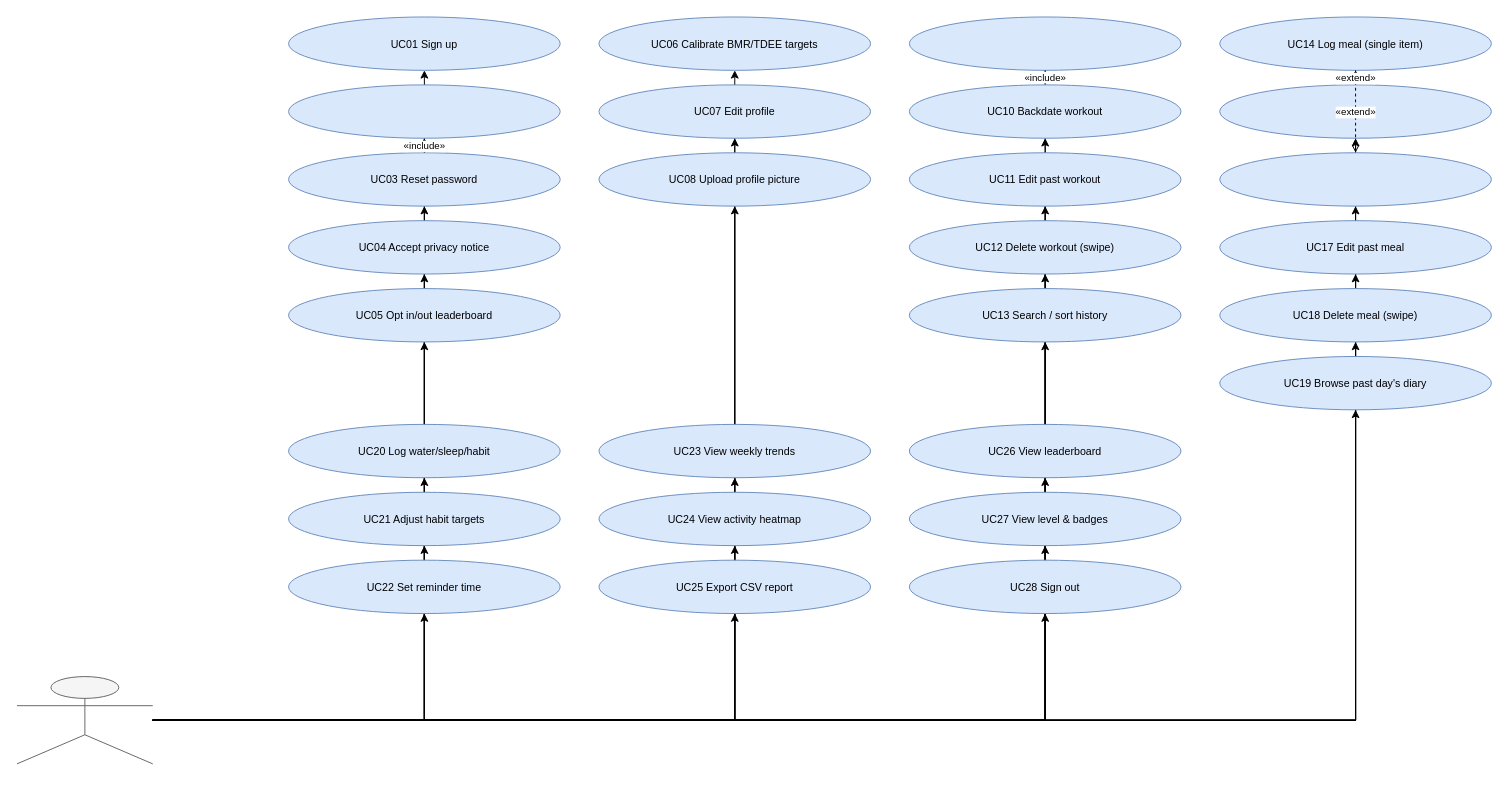
This 1508x801 diagram has some shape labels left out. Here are the shapes that lost their labels. From the top down, the box of each, then its label:
(908, 16, 1181, 70): UC09 Log workout
(288, 84, 560, 138): UC02 Log in
(1219, 84, 1491, 138): UC15 Log bowl (multi-ingredient)
(1219, 152, 1491, 206): UC16 Snap food photo -> macros
(16, 676, 153, 764): User
